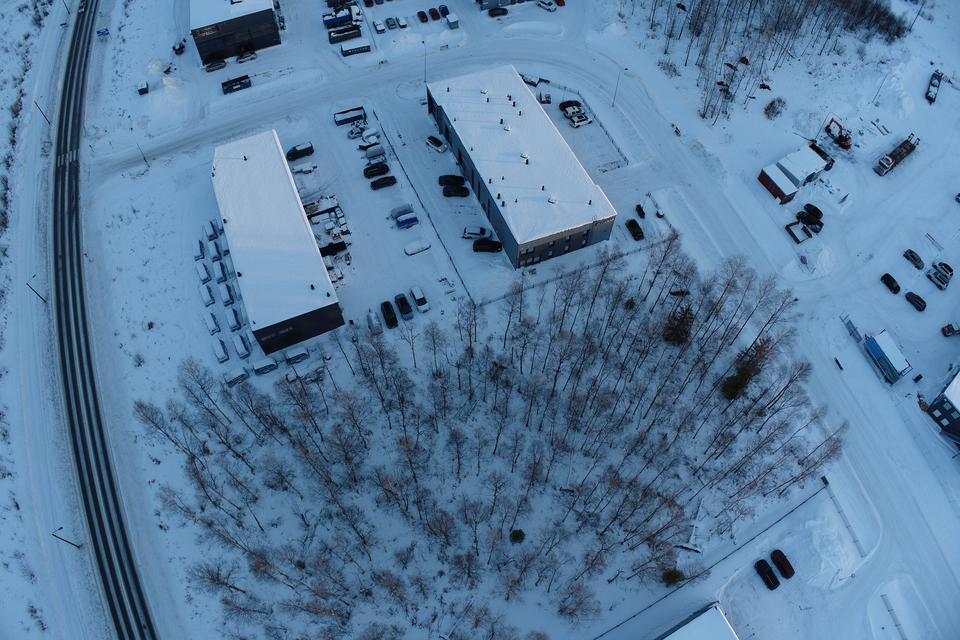intersection: (25, 127, 163, 225)
